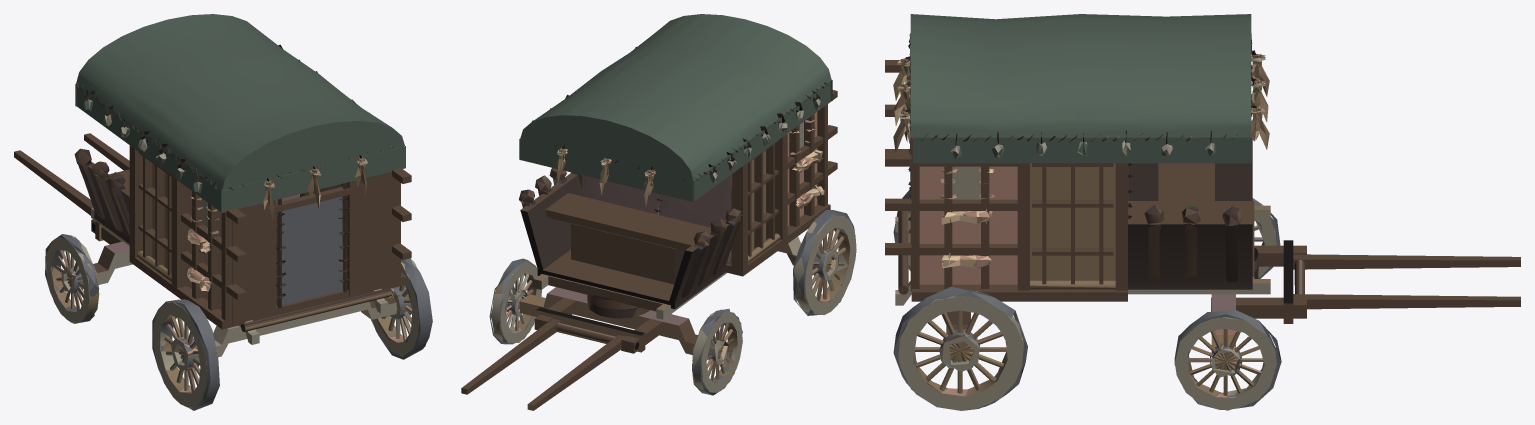
Rendered from covered-wagon.glb.
The picture shows the model from 3 angles, left to right: view 1: azimuth 30°, elevation 25°; view 2: azimuth 150°, elevation 25°; view 3: azimuth 270°, elevation 25°; orthographic projection. The views are drawn at different scales.
Visible parts, largest first — view 1: carriage_9; view 2: carriage_9; view 3: carriage_9.
Part boxes in pixels (box(x1,y1,x2,y2)): carriage_9: box(14, 14, 432, 410); carriage_9: box(461, 14, 856, 410); carriage_9: box(885, 14, 1520, 410).
Bounding box in the file's own units: 2.59 × 2.97 × 5.45.
